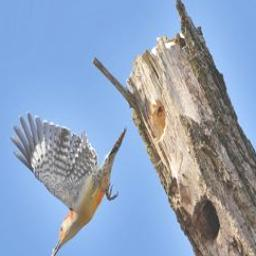Woodpecker: (8, 109, 127, 256)
